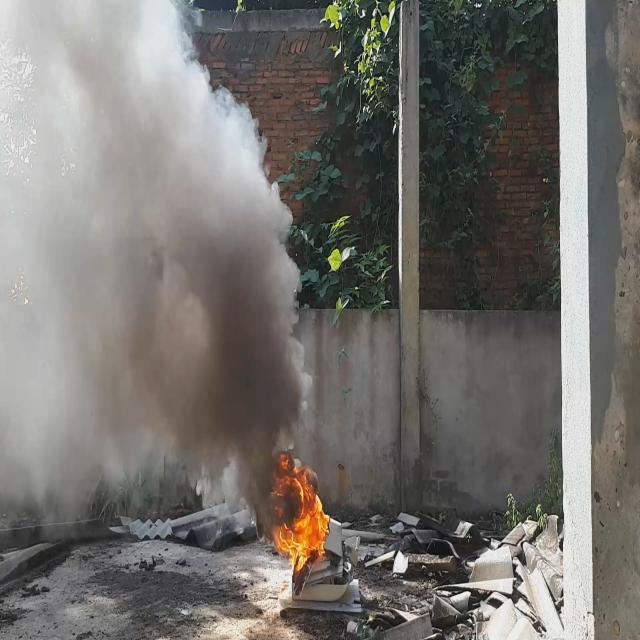Fire: (266, 452, 334, 570)
Smoke: (0, 0, 314, 535)
